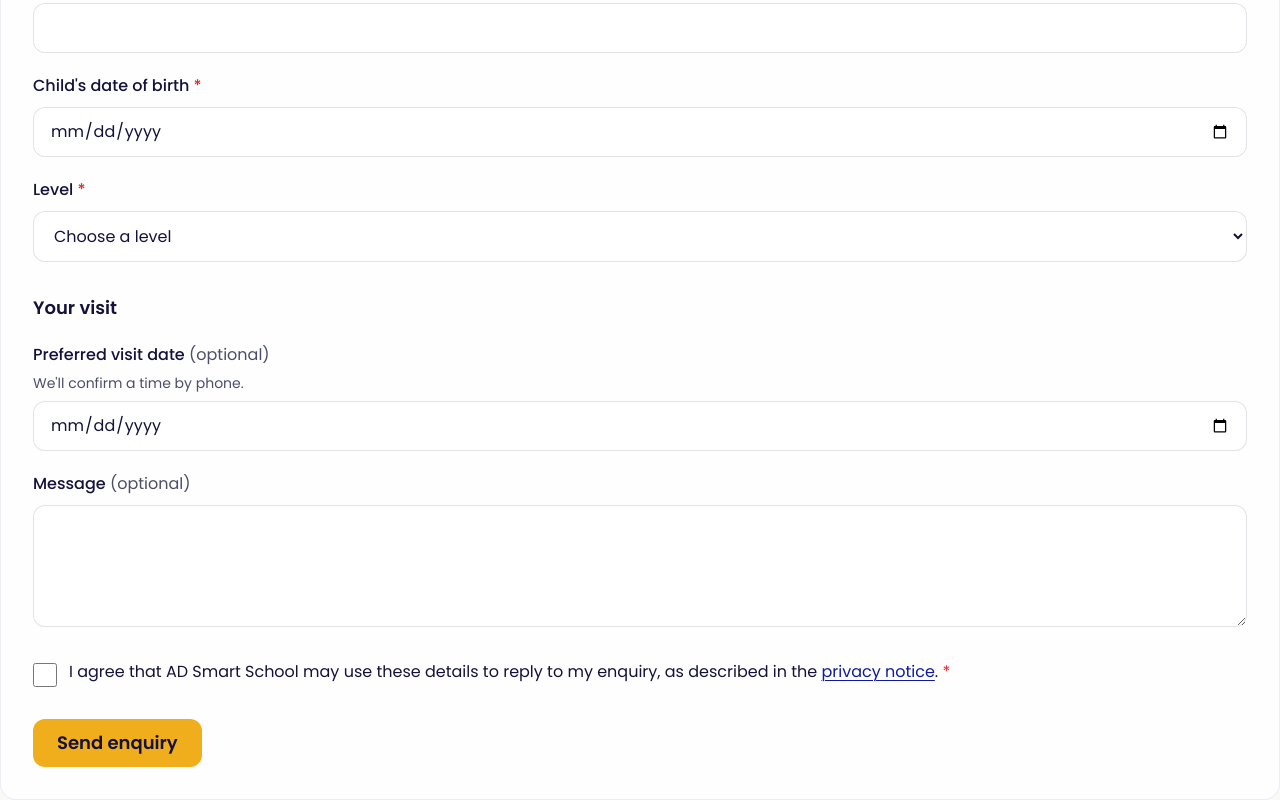
Test case: EnquiryForm › shows field errors and focuses the summary when submitted empty
(page scrolled)
Step 1. Click the button "Send enquiry" → (117, 743), box x1=33 y1=719 x2=202 y2=767
(page scrolled)
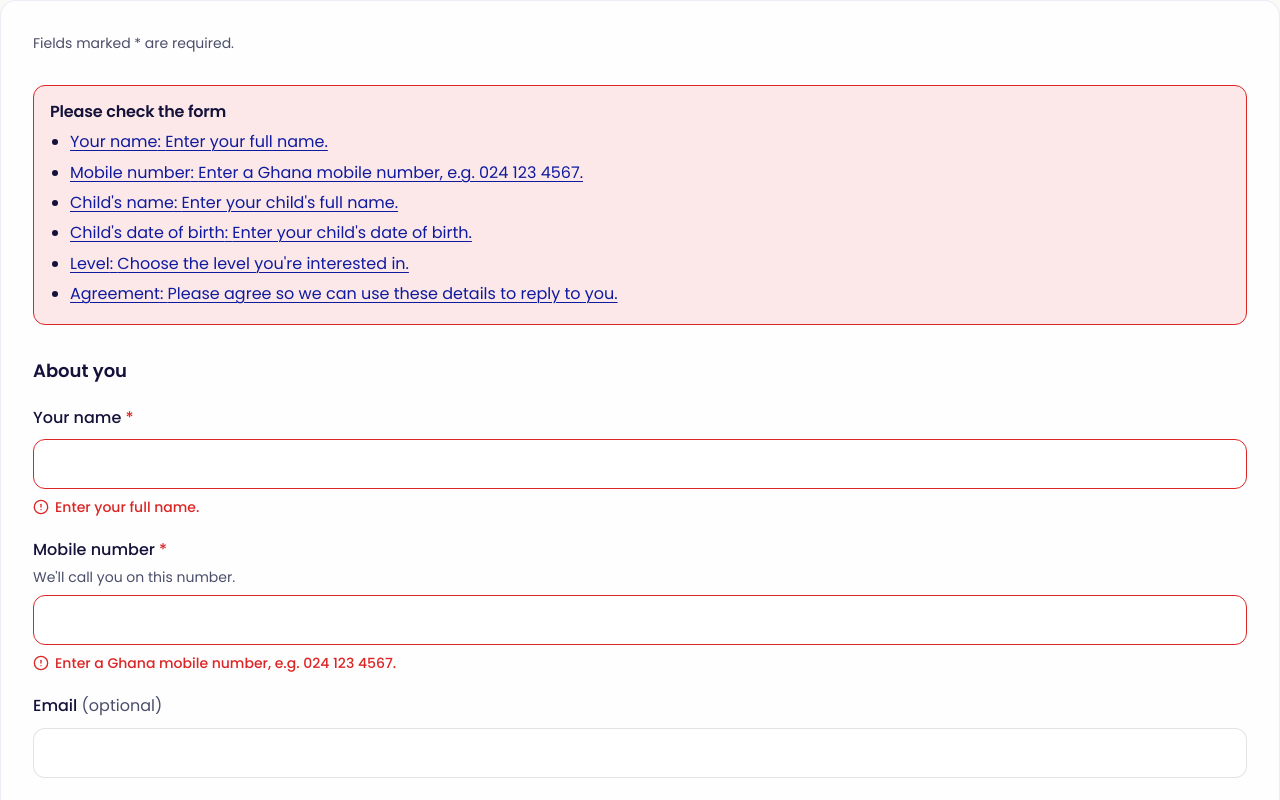
Expected: the message shows "Please check the form", x1=50 y1=100 x2=226 y2=123
Expected: the text "Enter your full name." is shown, x1=33 y1=497 x2=199 y2=517
